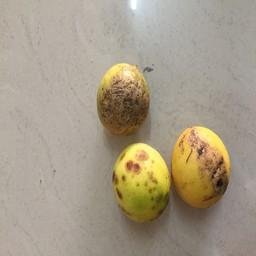Bad_lime: (171, 119, 233, 214), (115, 144, 169, 226), (98, 60, 152, 136)
